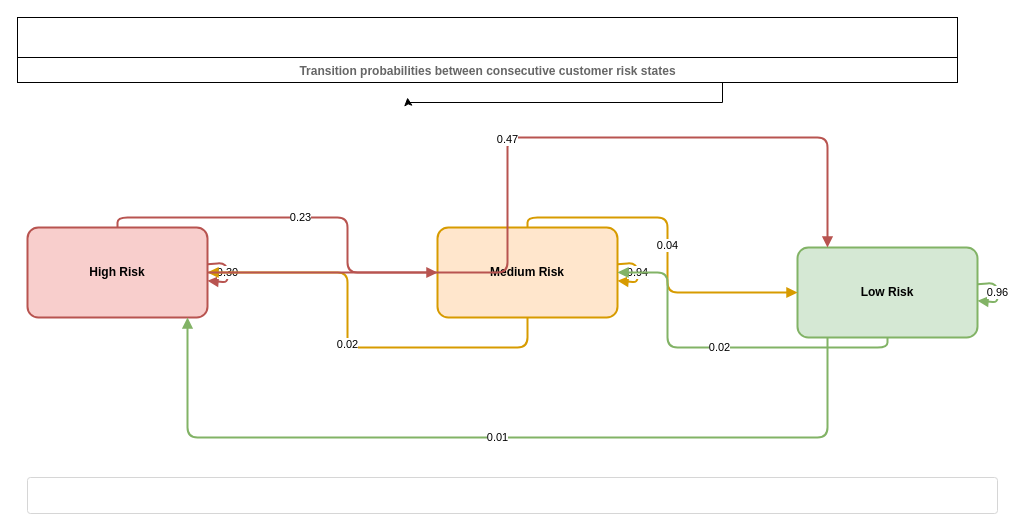
Some shapes in this 1025 by 531 pixel diagram are drawn without their labels. The shapes that lost their labels are listed below. From the top down, each one's centre as x and y in pixels, then its label:
At pixel 487 37: "Markov Risk Transition Diagram".
At pixel 512 495: "Example probabilities shown for illustration from risk transition analysis".
